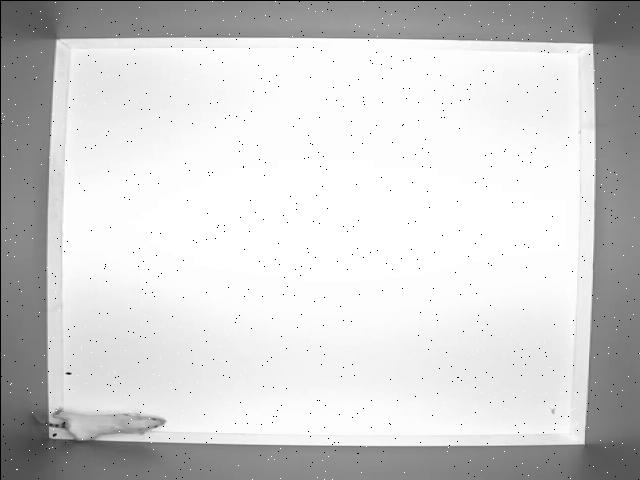Tikus: (28, 408, 165, 442)
